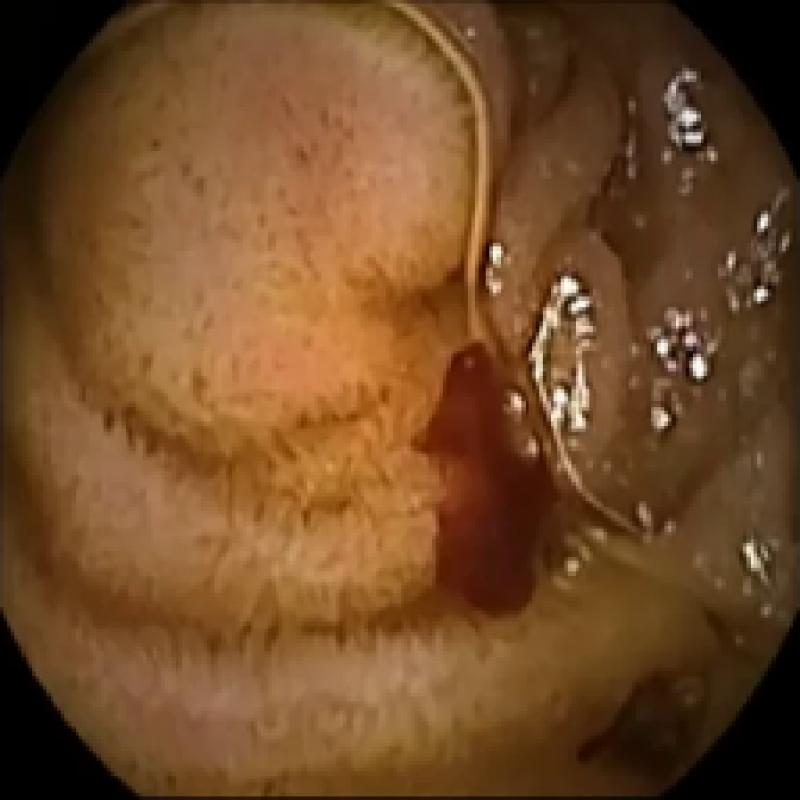bleeding: (425, 346, 571, 625), (582, 667, 702, 756)
